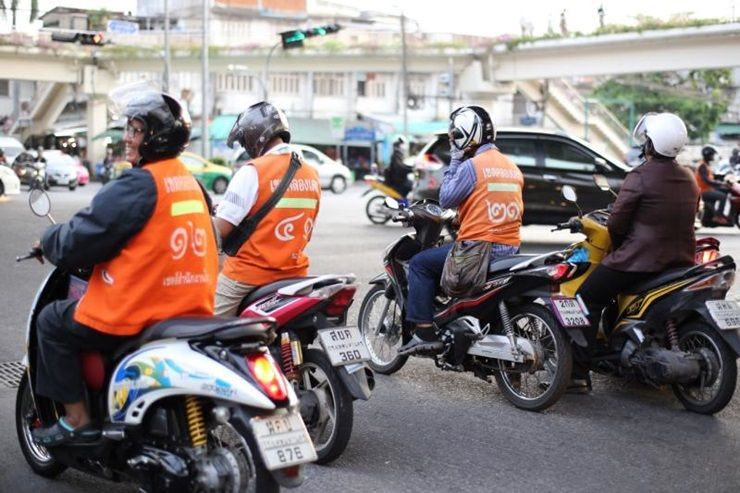helmet: (113, 94, 191, 165), (221, 101, 293, 157), (627, 108, 690, 162), (448, 106, 498, 151)
motorcycle: (14, 185, 319, 493), (366, 193, 599, 421), (543, 180, 740, 428), (236, 270, 386, 466)
